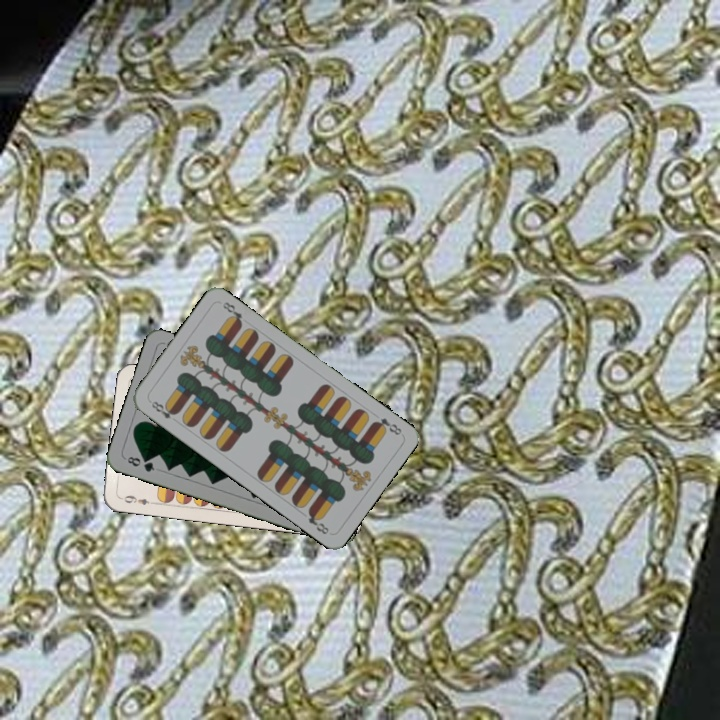E8: (145, 396, 180, 422), (369, 414, 404, 438)
E9: (117, 491, 152, 507)
G8: (121, 452, 157, 475)
